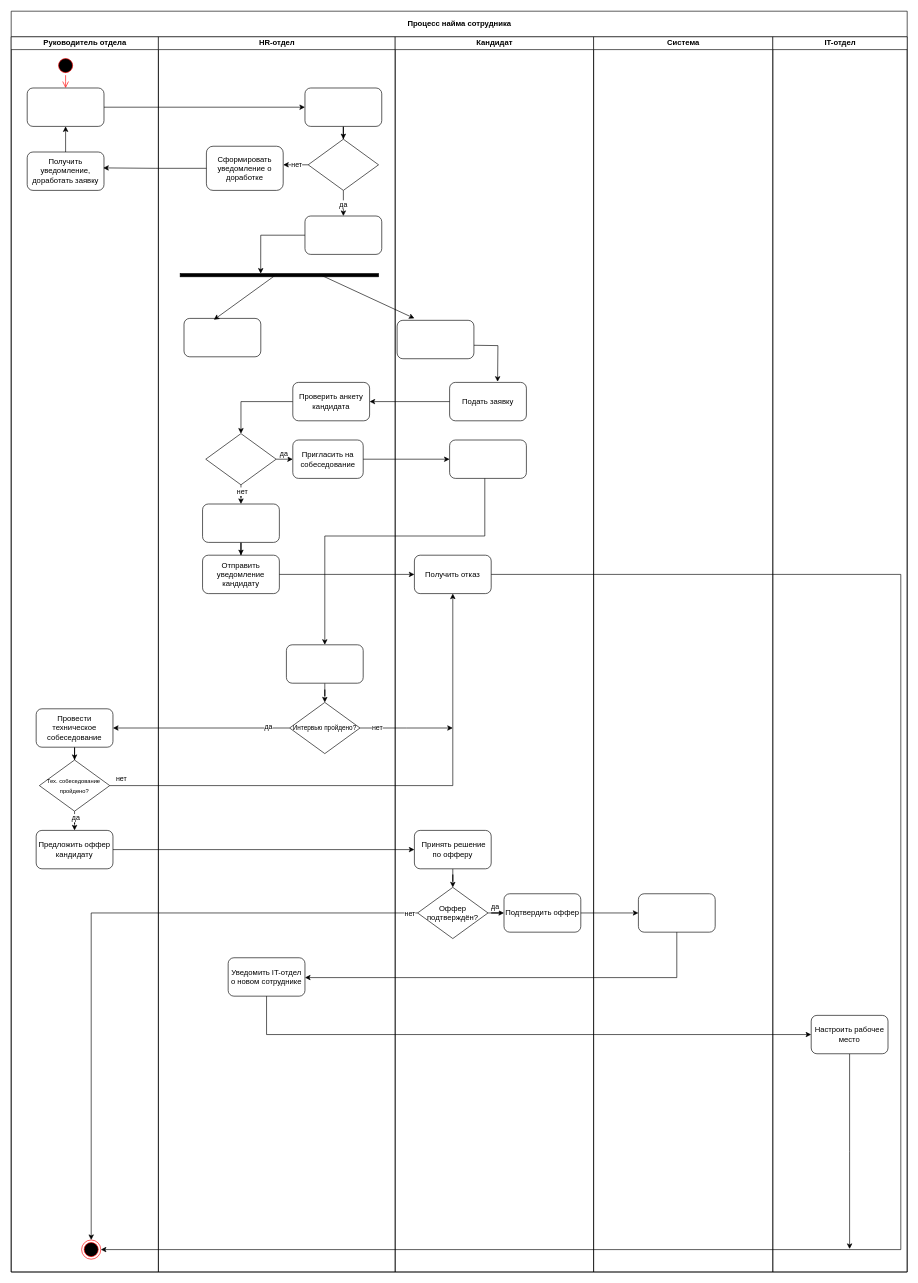
Some shapes in this 918 by 1283 pixel diagram are drawn without their labels. The shapes that lost their labels are listed below. From the top down, each one's centre as x and y in pixels, then its label:
At pixel 65 106: "Создать заявку на вакансию".
At pixel 343 106: "Проверить заявку".
At pixel 343 164: "Заявка соответствует требованиям?".
At pixel 343 234: "Утвердить заявку".
At pixel 222 337: "Опубликовать вакансию на сайте".
At pixel 435 339: "Просмотреть вакансию".
At pixel 240 459: "Кандидат подходит?".
At pixel 487 458: "Подтвердить участие".
At pixel 240 522: "Отклонить анкету".
At pixel 324 663: "Провести первичное интервью".
At pixel 676 912: "Добавить сотрудника в базу данных".
